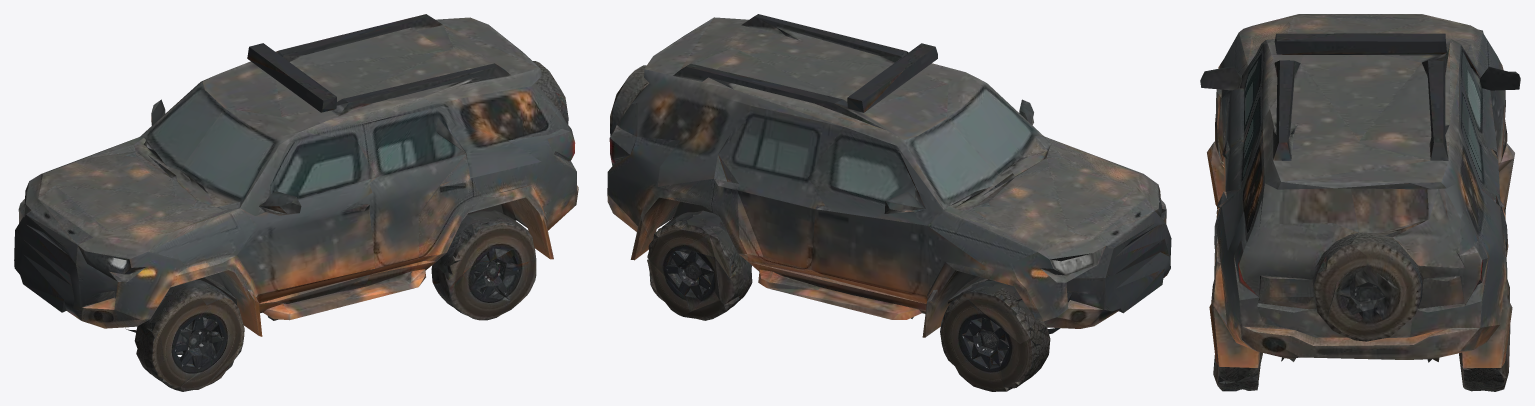
Rendered from Vehicle_SUV_Dark.glb.
3 views of the same model, side by side, from view 1: azimuth 30°, elevation 25°; view 2: azimuth 150°, elevation 25°; view 3: azimuth 270°, elevation 25° (orthographic). The views are drawn at different scales.
Bounding box in the file's own units: 1.9 × 0.8362 × 0.8993.
1 material, 1 textured.
